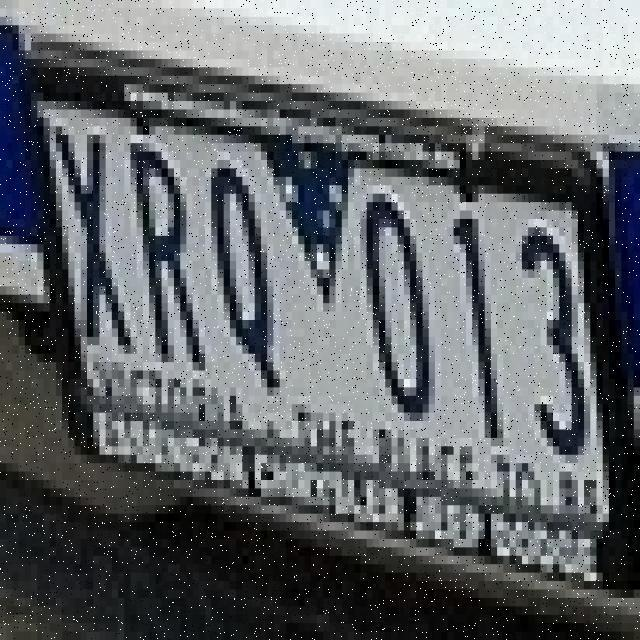LicensePlate: (30, 75, 634, 586)
